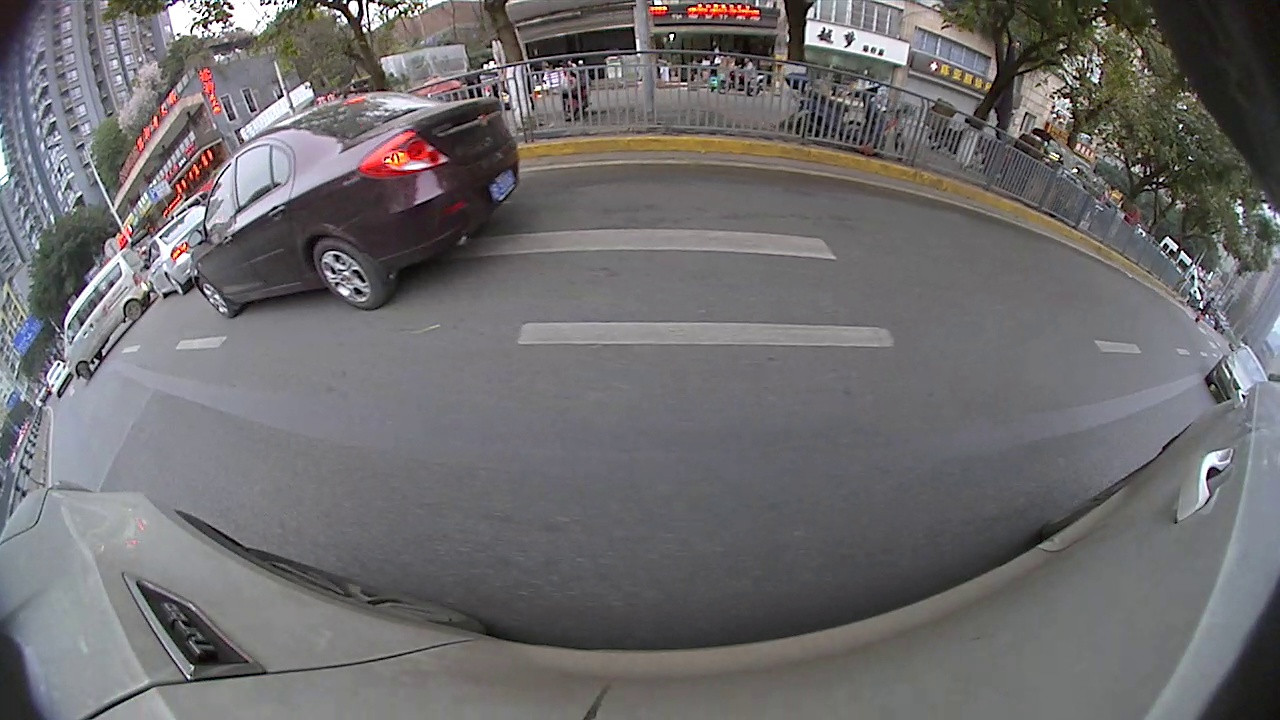car: (515, 40, 1017, 302), (380, 52, 635, 151), (57, 191, 197, 328), (970, 164, 1074, 255), (149, 147, 245, 219), (1186, 381, 1252, 471)
front: (940, 246, 1006, 301), (101, 289, 129, 320)
rear: (623, 169, 732, 267)
rider: (1035, 241, 1180, 393)
